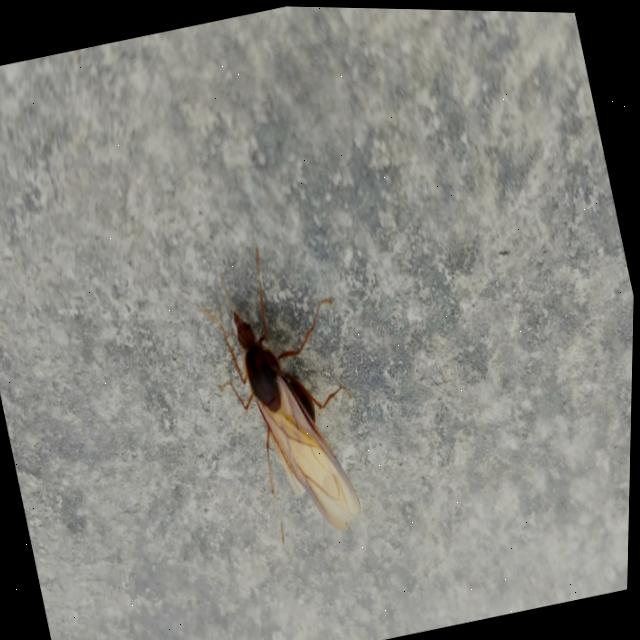Alive-Male-Alate: (183, 227, 387, 552)
